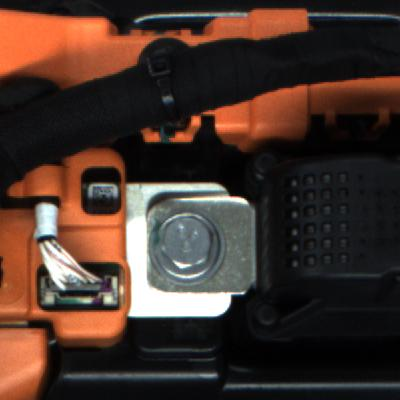nut_b: (139, 204, 229, 293)
